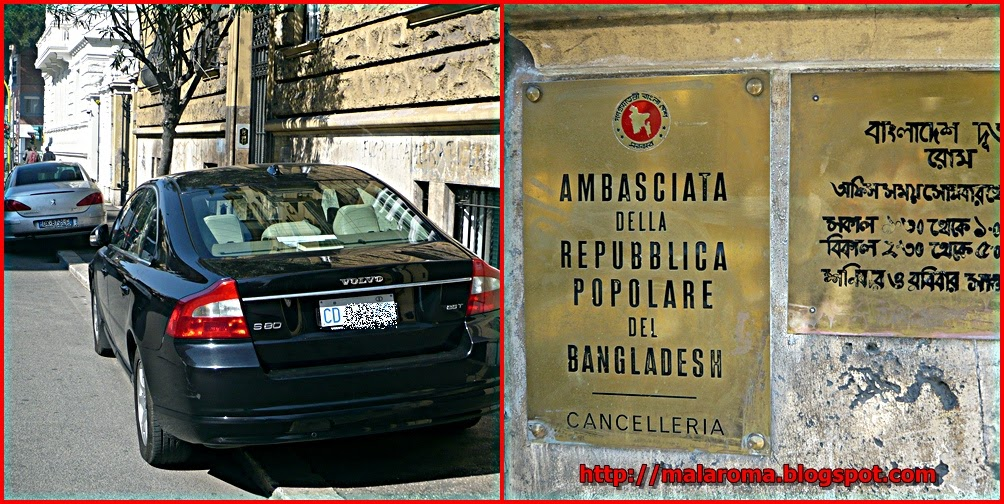car: (86, 174, 490, 464), (7, 155, 111, 261)
